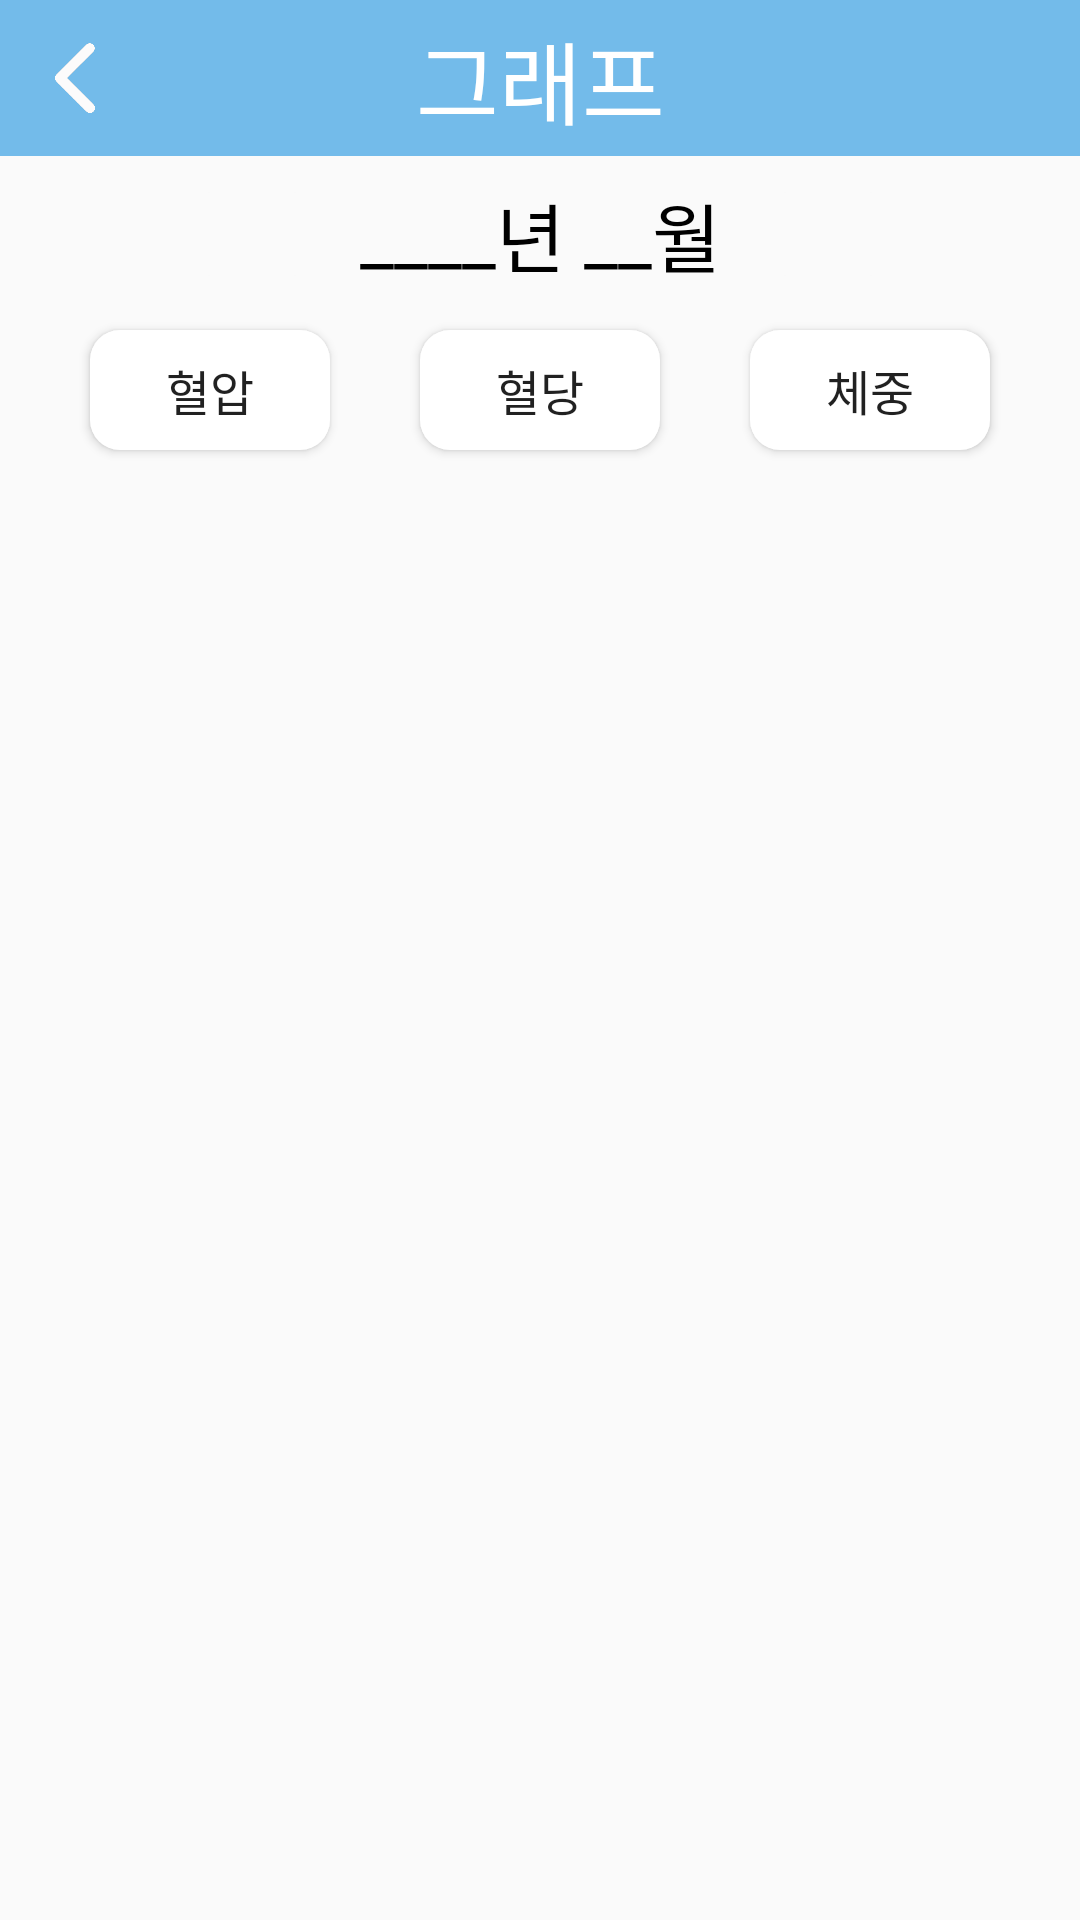

Screen size 1080 x 1920. Icon name, then its center in pixels as point (x, y):
previous: point (75, 78)
